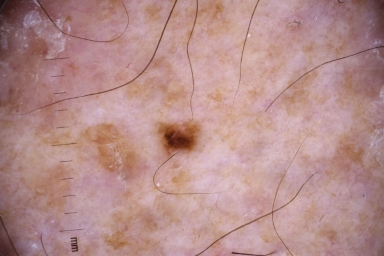melanoma: (158, 122, 194, 152)
